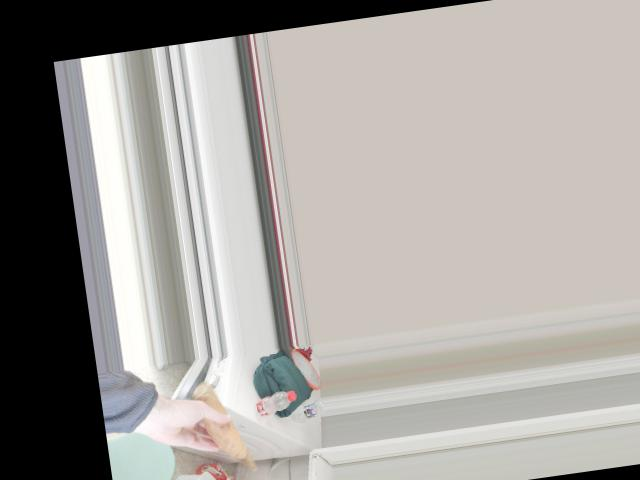sweet_potato: (193, 384, 248, 456)
